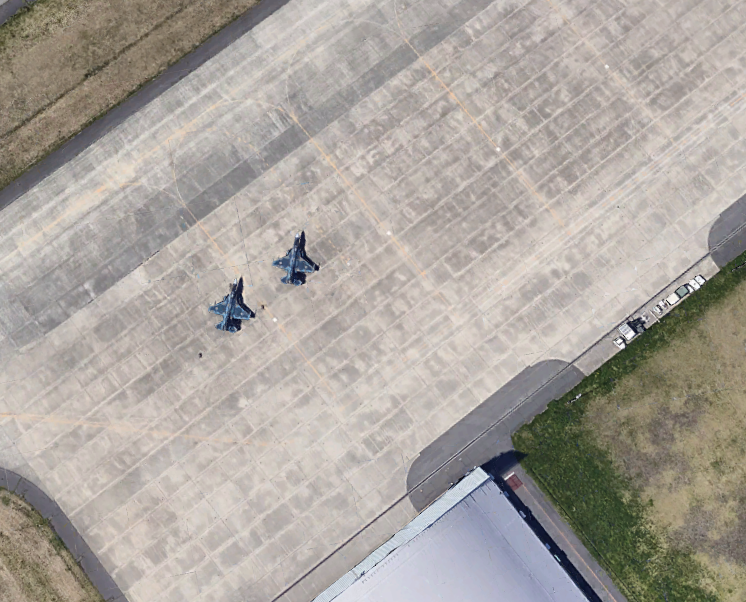A5: (204, 269, 256, 336), (270, 225, 322, 292)
